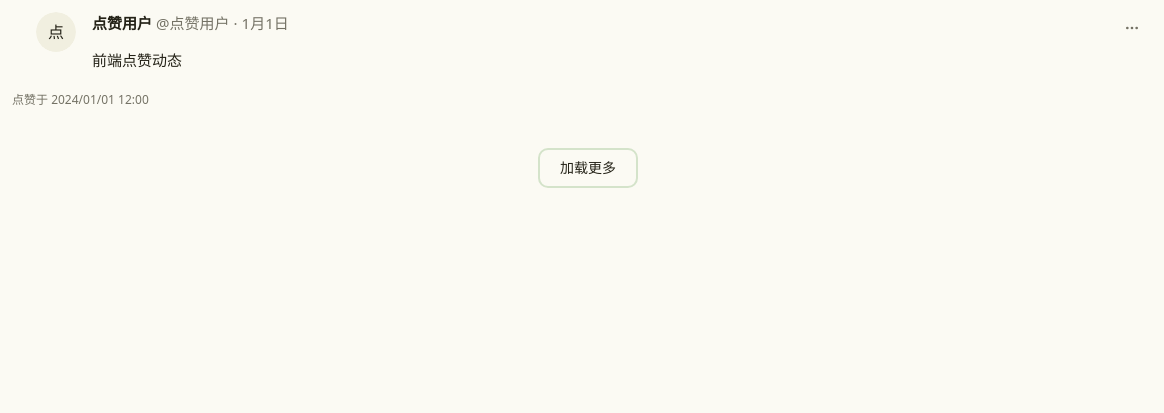
it: ProfileLikesTab component › renders liked items and loads more on demand
This screenshot has width=1164, height=413.
Expected: the text "前端点赞动态" is shown, [92,50,182,70]
Expected: the text "点赞于 2024/01/01 12:00" is shown, [12,91,149,108]
Step 1. Click the button "加载更多" → [588, 168], box [538,148,638,188]
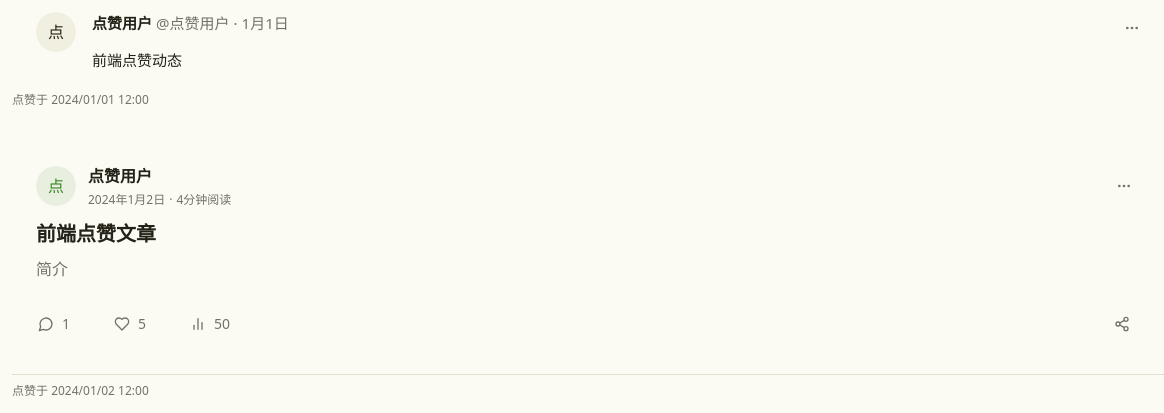
Expected: the heading "前端点赞文章" is shown, [36,220,156,247]
